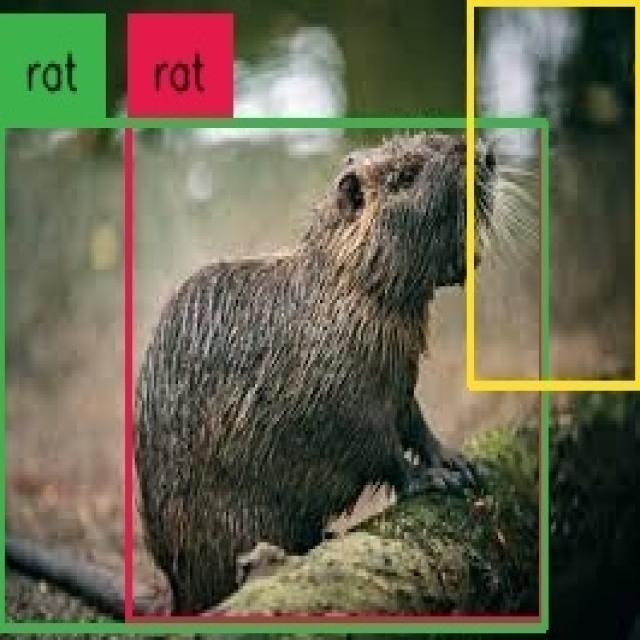rat: (0, 123, 544, 628), (128, 125, 542, 623), (469, 0, 640, 387)
